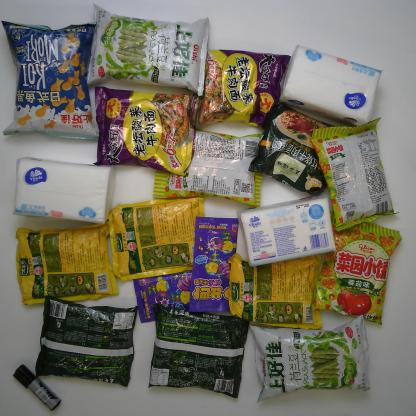Candy: (190, 215, 241, 313), (134, 272, 208, 322)
Instant Noodles: (148, 302, 250, 398), (35, 294, 138, 388), (90, 84, 196, 175), (249, 101, 349, 197), (190, 42, 290, 126)
Puffed Food: (0, 18, 99, 141), (88, 2, 209, 96), (246, 313, 373, 399), (148, 122, 265, 209), (311, 117, 399, 230), (314, 214, 401, 326)
Seasoner: (103, 196, 206, 279), (15, 226, 118, 306), (228, 252, 322, 332)
Stationery: (10, 363, 62, 412)
Tissue: (279, 43, 382, 126), (240, 196, 338, 268), (11, 155, 109, 225)
